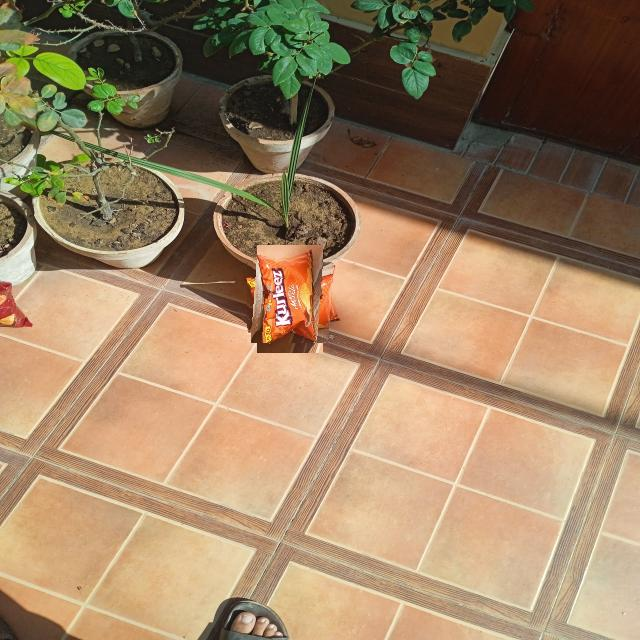Plastic: (247, 255, 334, 343)
